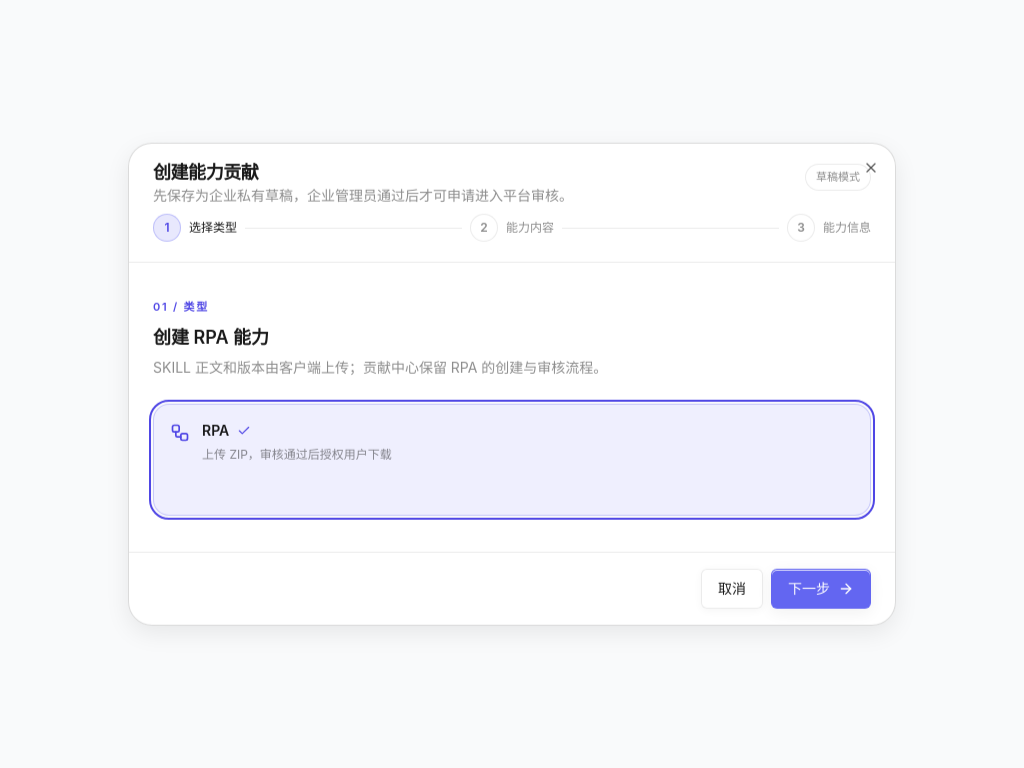
Scenario: 创建能力贡献 › 无 SKILL 创建选项和上传入口，默认进入 RPA 内容
Click the button "下一步".
click(821, 588)  # box [771, 568, 871, 608]
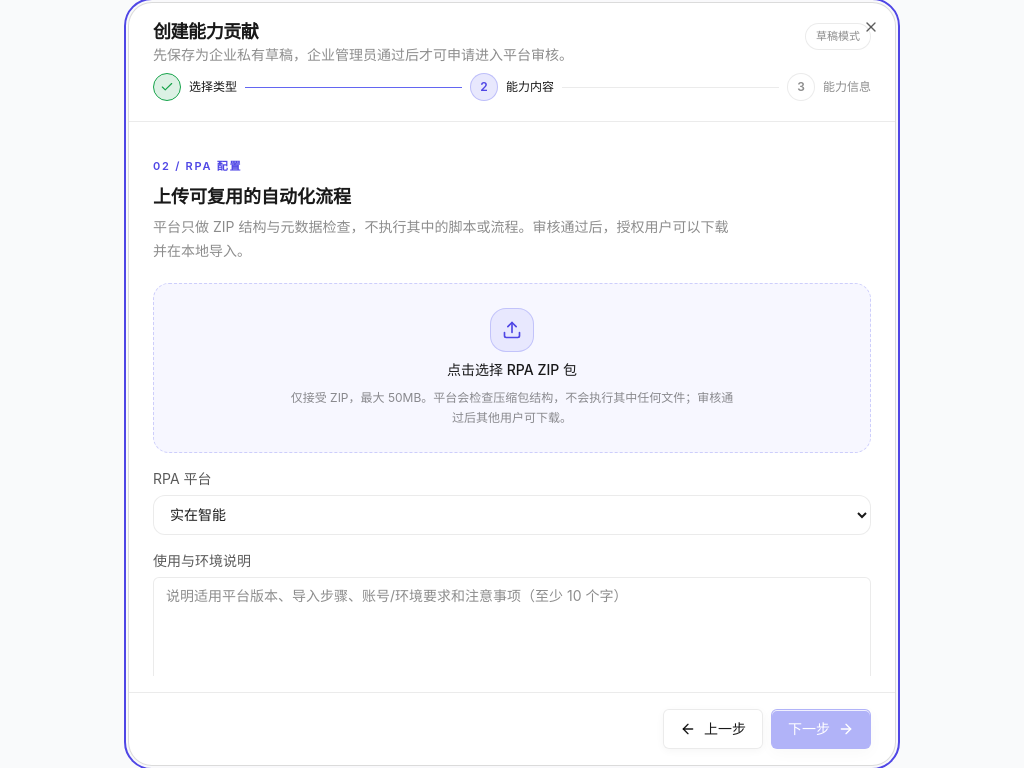
Check: the text "点击选择 RPA ZIP 包" is shown, box [447, 360, 577, 380]
Check: the element that starts with "点击选择 RPA ZIP 包" is shown, box [153, 282, 871, 452]
Check: the button "下一步" is disabled, box [771, 709, 871, 749]
